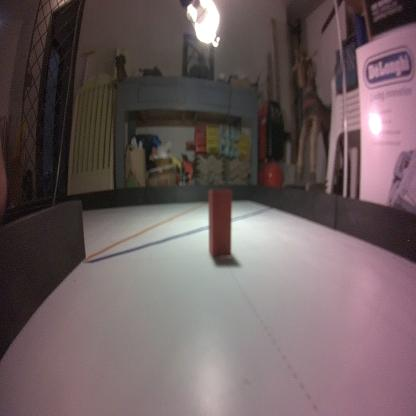red: (207, 188, 233, 251)
